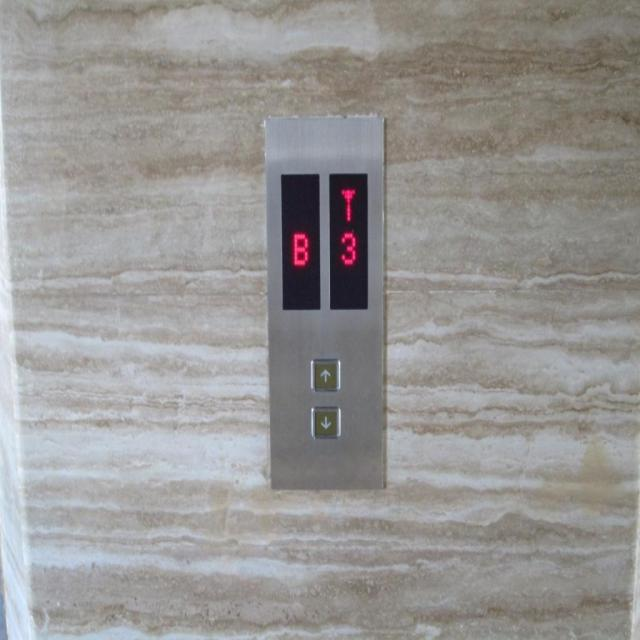down: (308, 402, 342, 440)
led: (327, 169, 370, 312), (279, 170, 321, 312)
up: (308, 356, 342, 393)
